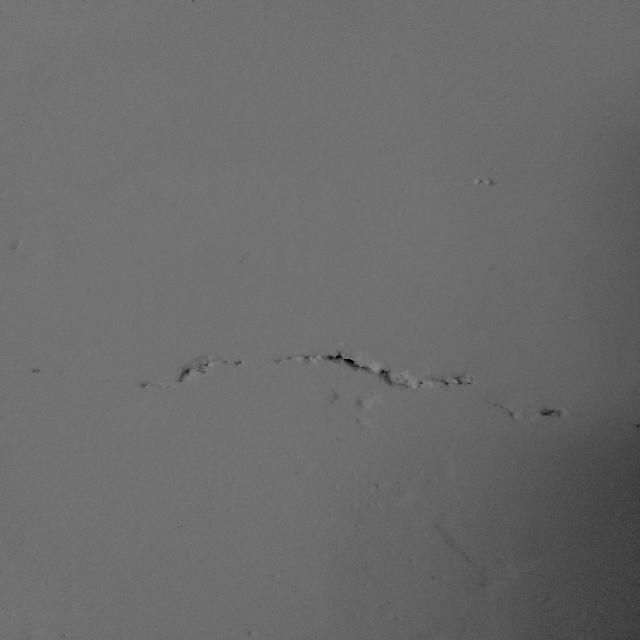rough and patchy surface: (0, 0, 640, 285), (13, 339, 634, 481), (360, 486, 640, 640)
